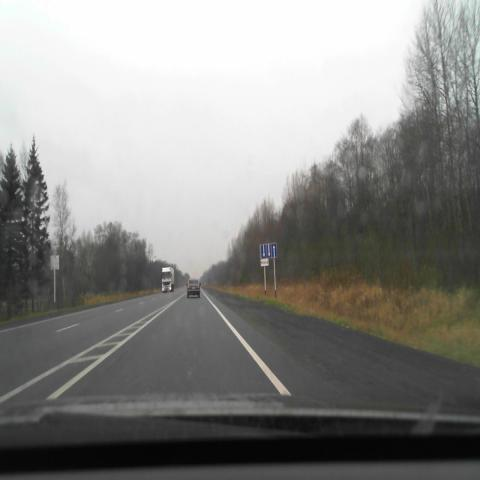5_15_7: (259, 242, 278, 259)
